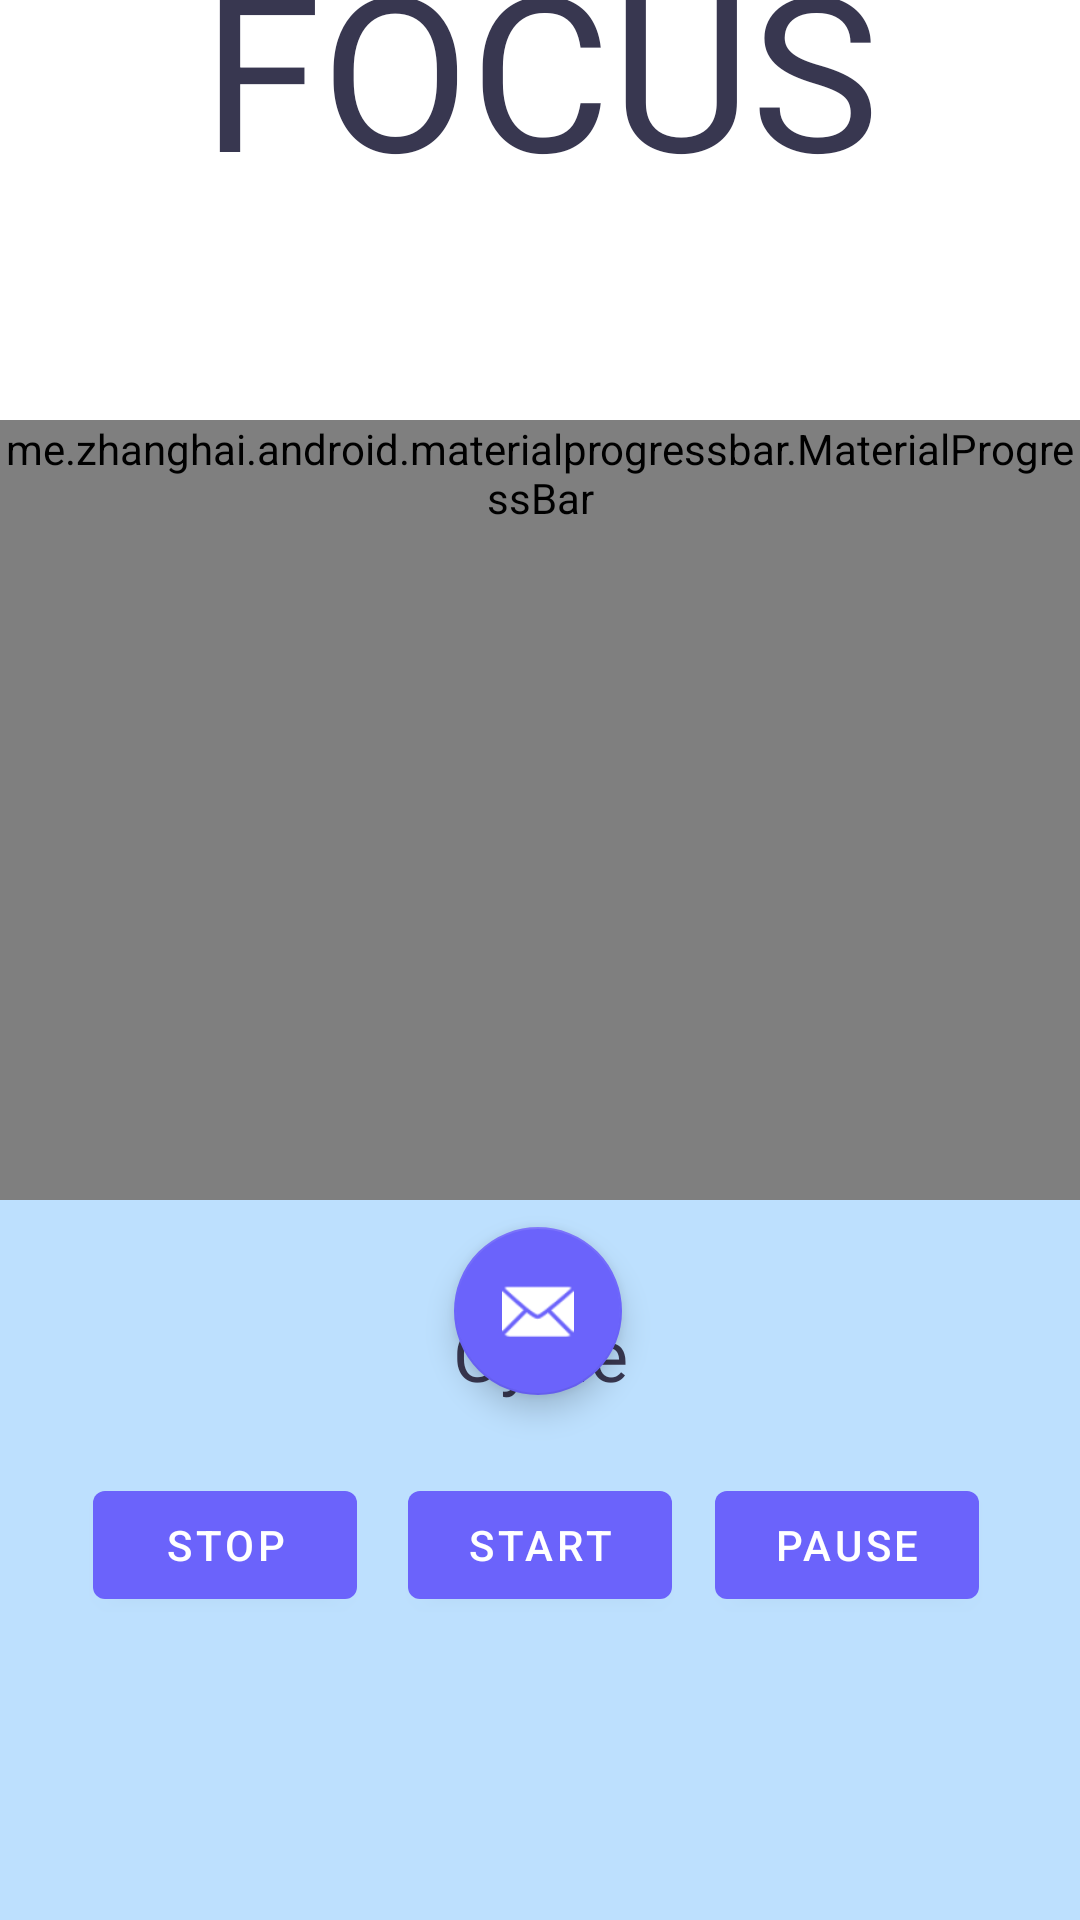

Named icons in this screenshot (1080 x 1920) and their bounding boxes, (x1, y1, x2, y2):
email: (454, 1227, 622, 1395)
